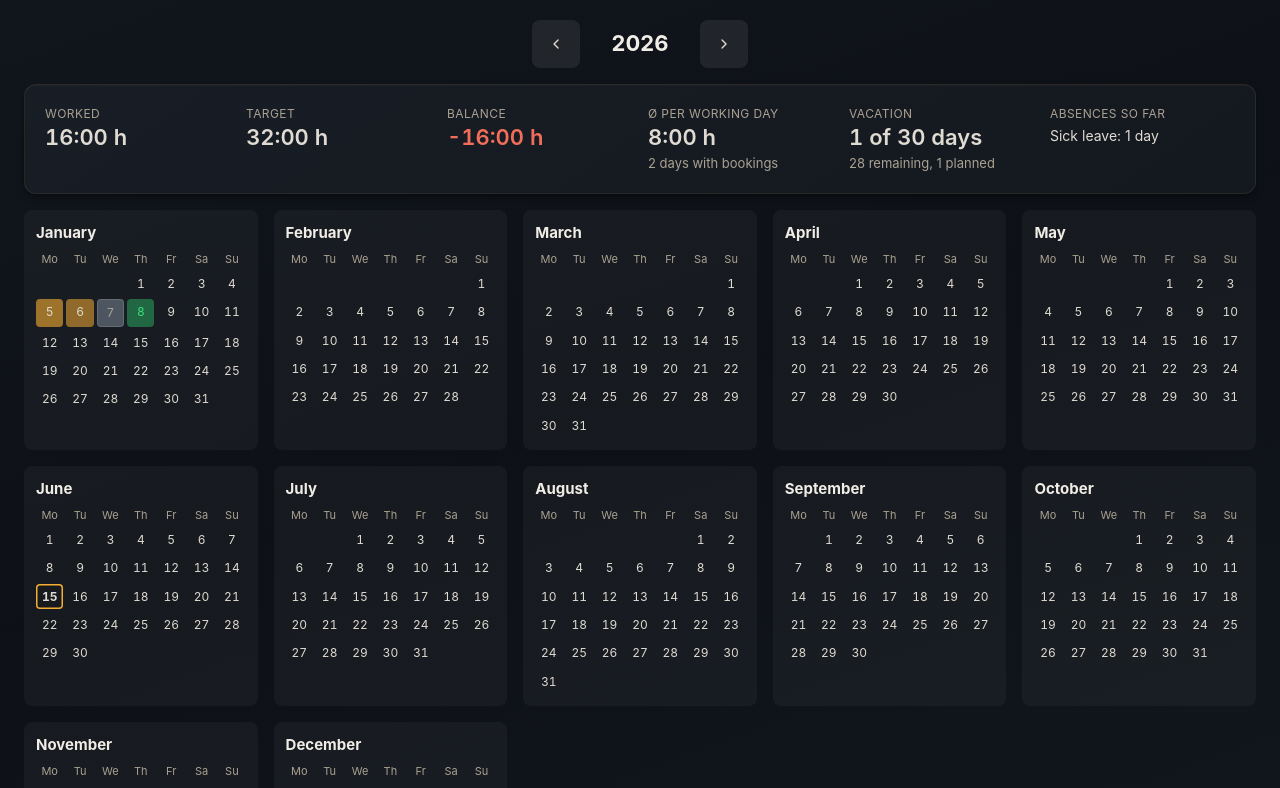
Test: YearPage › switches the year and offers a way back
Check: the element named "Yearly statistics" is shown, box [24,84,1256,194]
Click the button named "Previous year": (556, 44) [532,20,580,68]
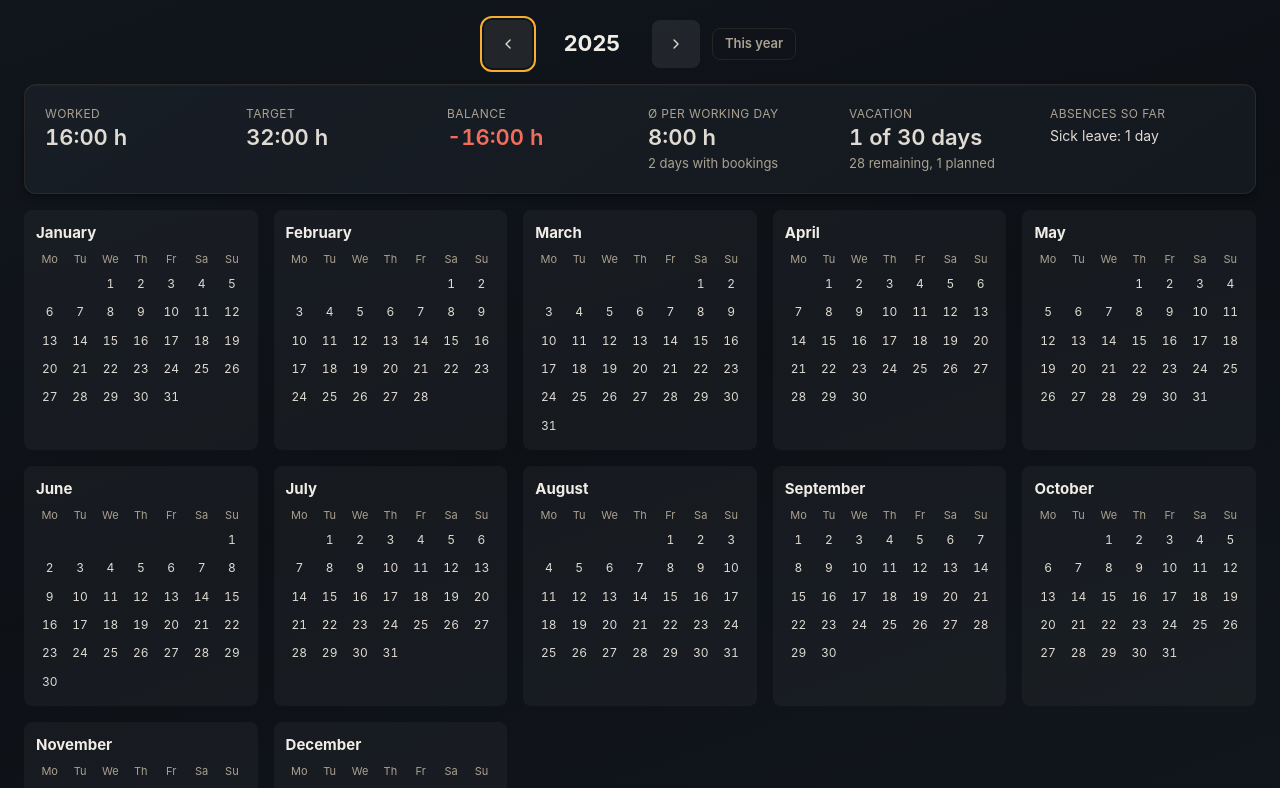
Click the button "This year": (754, 44) [712,28,796,60]
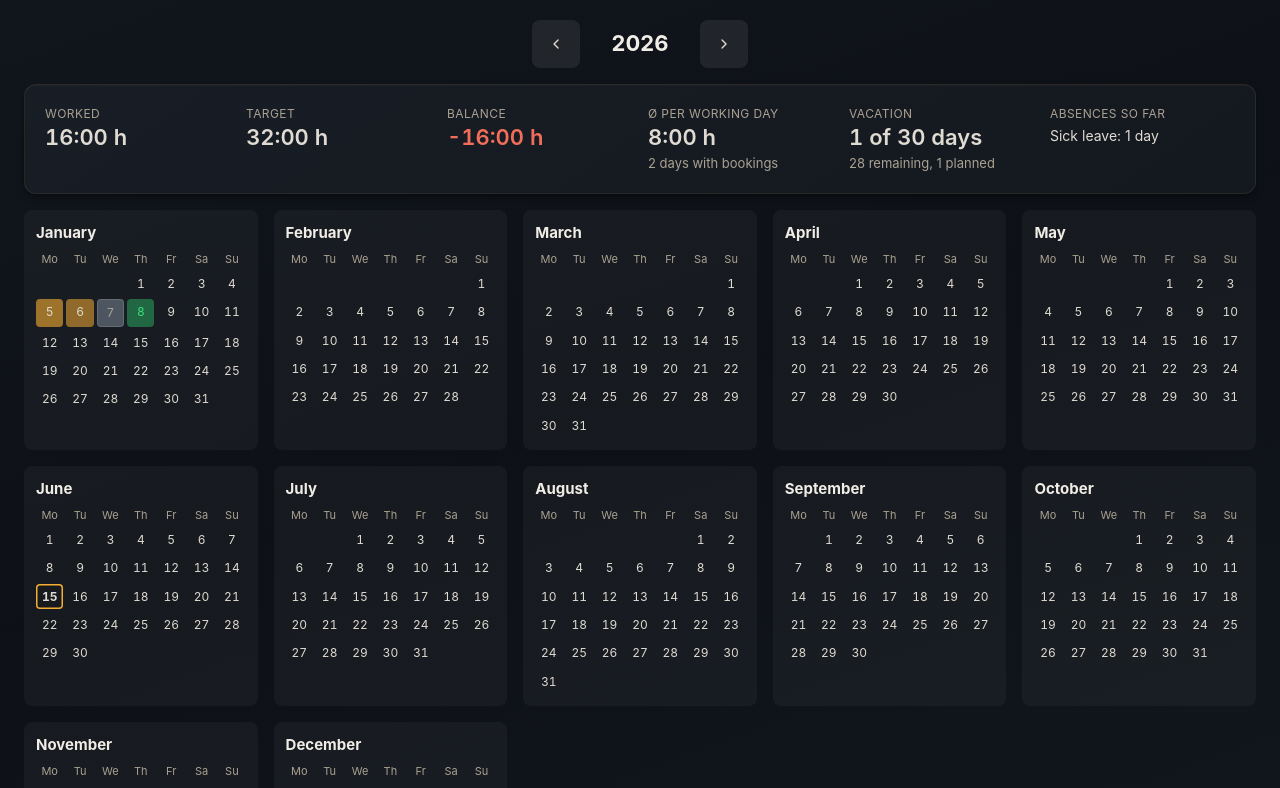
Check: the heading "2026" is shown, box [612,30,668,56]
